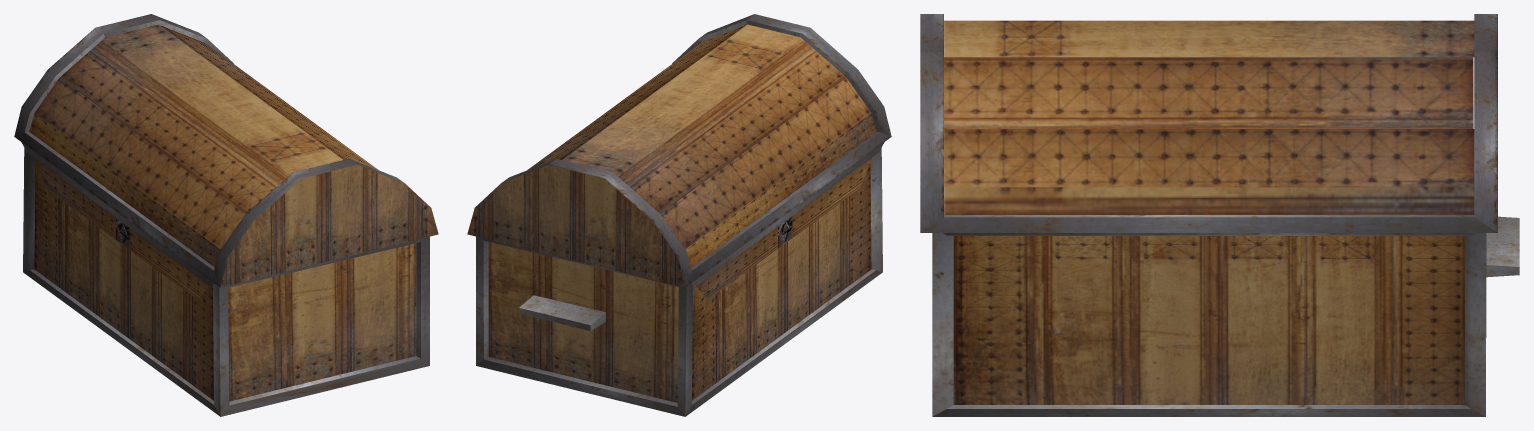
File: Chest.dae
3 views of the same model, side by side, from view 1: azimuth 30°, elevation 25°; view 2: azimuth 150°, elevation 25°; view 3: azimuth 270°, elevation 25° (orthographic). The views are drawn at different scales.
Visible parts, largest first — view 1: meshU3D; view 2: meshU3D; view 3: meshU3D.
Boxes of the visible parts, box(x1,y1,x2,y2) form: meshU3D: box(14, 14, 438, 416); meshU3D: box(467, 14, 891, 416); meshU3D: box(920, 14, 1519, 416).
Size of the model in its own units: 19.6 by 19.12 by 33.25.
